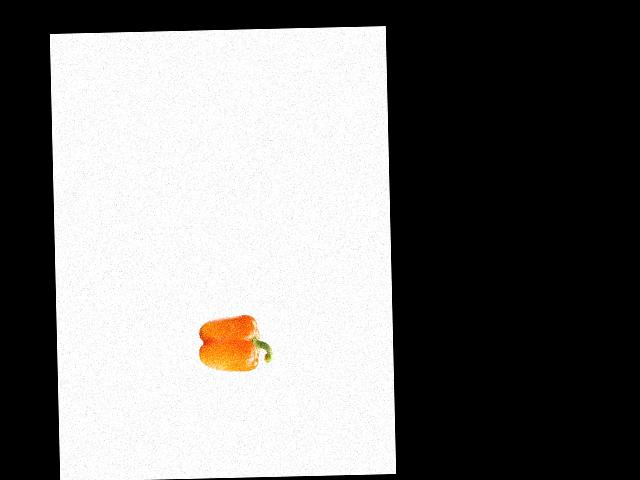bell_pepper: (197, 308, 273, 378)
